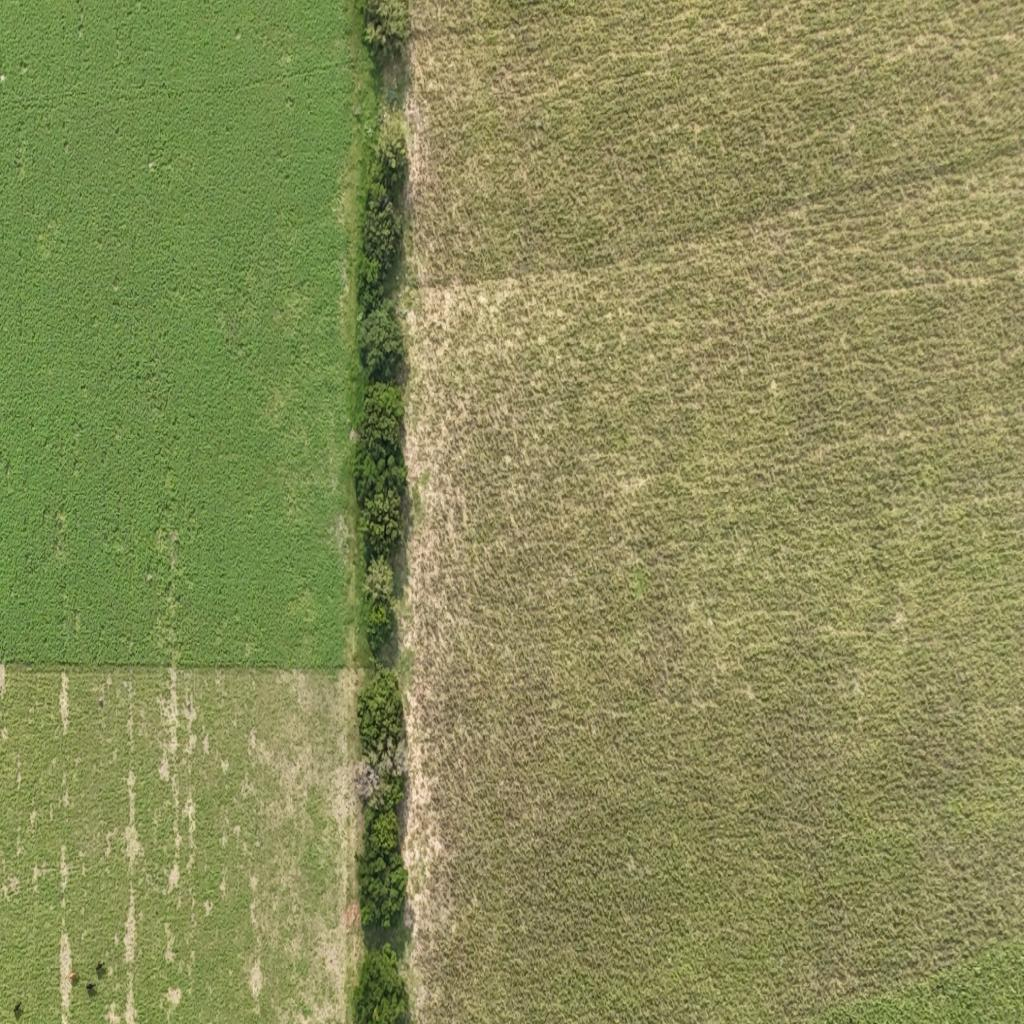cow: (14, 1001, 23, 1017), (69, 970, 79, 984), (94, 960, 104, 974), (86, 982, 96, 995)
